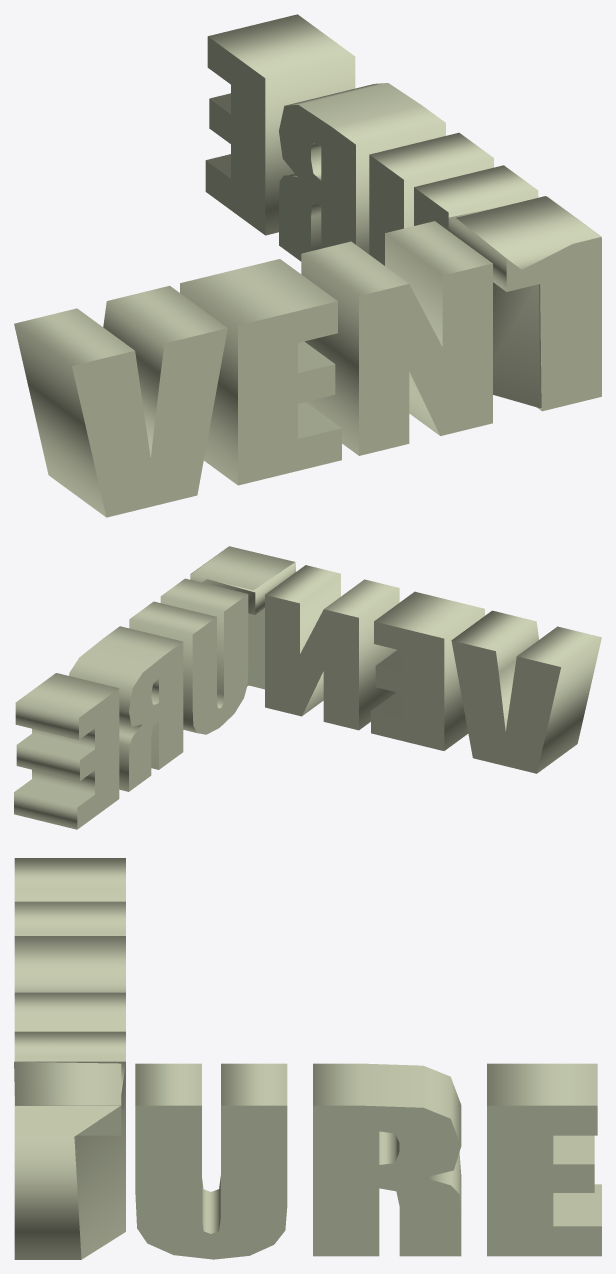
The model's file is ArcVenture.obj.
3 renders of one model, top to bottom at view 1: azimuth 30°, elevation 25°; view 2: azimuth 150°, elevation 25°; view 3: azimuth 270°, elevation 25°, orthographic. The views are drawn at different scales.
Visible parts, largest first — view 1: text1, text2; view 2: text1, text2; view 3: text2, text1.
Boxes of the visible parts, x1=… form: text1: x1=14, y1=196, x2=601, y2=517; text2: x1=205, y1=14, x2=600, y2=408; text1: x1=190, y1=551, x2=601, y2=773; text2: x1=14, y1=546, x2=294, y2=829; text2: x1=14, y1=1061, x2=601, y2=1259; text1: x1=14, y1=858, x2=125, y2=1259.
Size of the model in its own units: 3.64 by 1.05 by 3.64.
